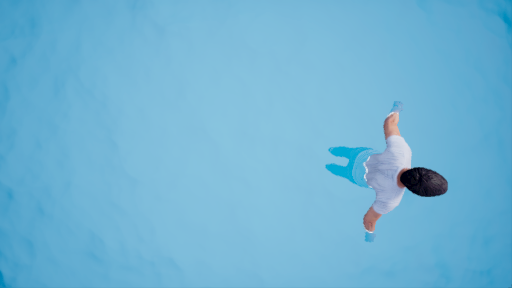person: (324, 101, 443, 244)
